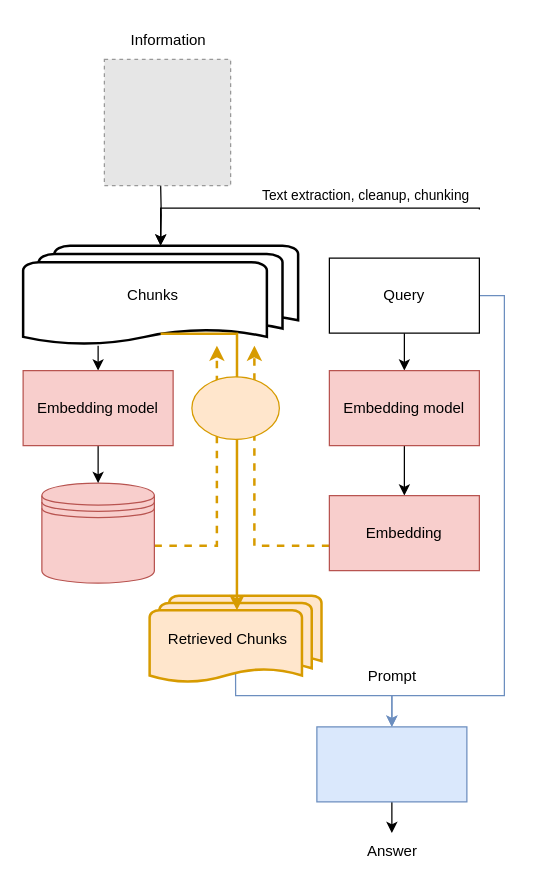
Image size: 536x891. Some labels were removed from this diagram. Grey dashed boxes stand in for pictures. Here are the shapes that lost their labels. From the top down, the centre of each, then its label:
[235,407]: cosine similarity
[97,532]: Embeddings (Vector DB)
[391,764]: Generator
